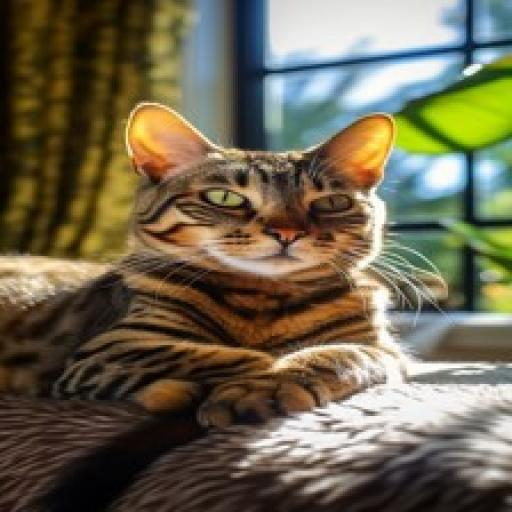cat: (0, 90, 435, 435)
